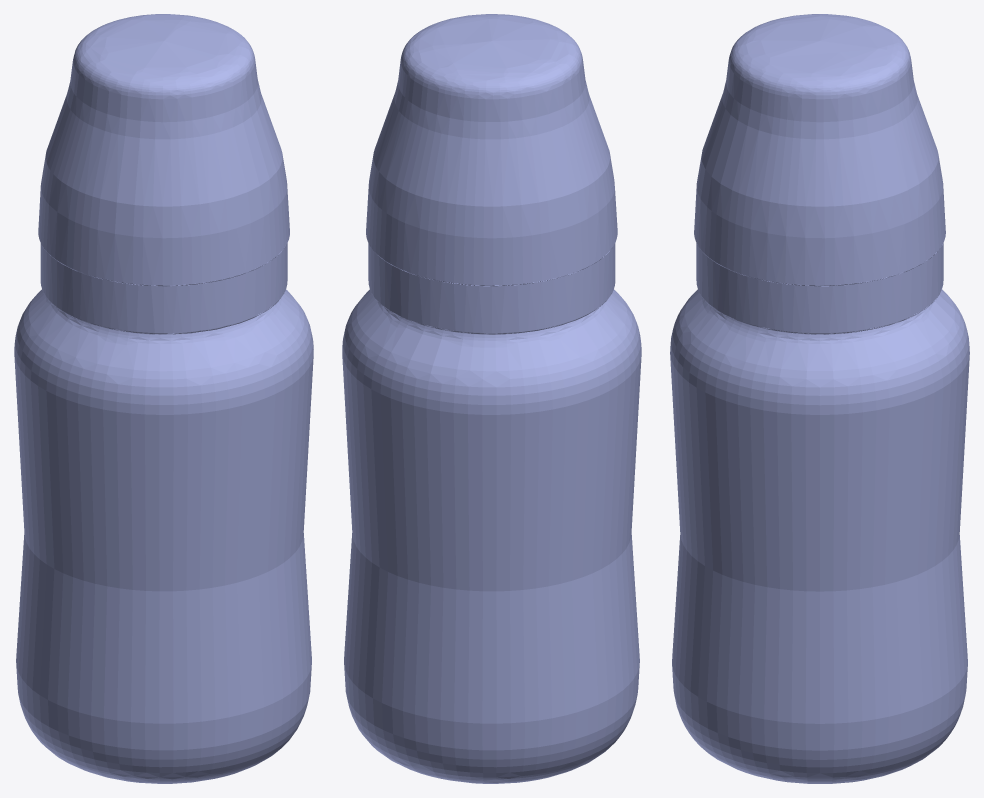
Rendered from baby-bottle.dae.
The picture shows the model from 3 angles, left to right: view 1: azimuth 30°, elevation 25°; view 2: azimuth 150°, elevation 25°; view 3: azimuth 270°, elevation 25°; orthographic projection.
Parts seen in each view (by area): view 1: Philips_Avent; view 2: Philips_Avent; view 3: Philips_Avent.
Part boxes in pixels (x1,y1,x2,y2): Philips_Avent: (14, 14, 313, 783); Philips_Avent: (342, 14, 641, 783); Philips_Avent: (670, 14, 969, 783).
Bounding box in the file's own units: 0.0559 × 0.0559 × 0.144.
